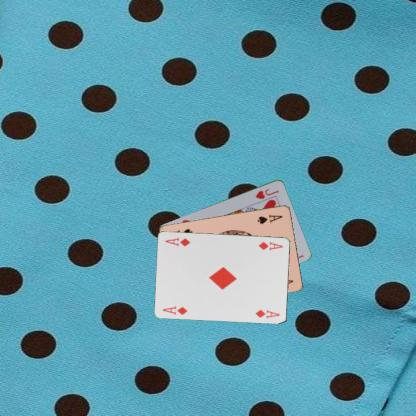Ad: (160, 303, 188, 316), (256, 239, 284, 251)
As: (254, 212, 284, 225)
Jh: (253, 186, 280, 200)
